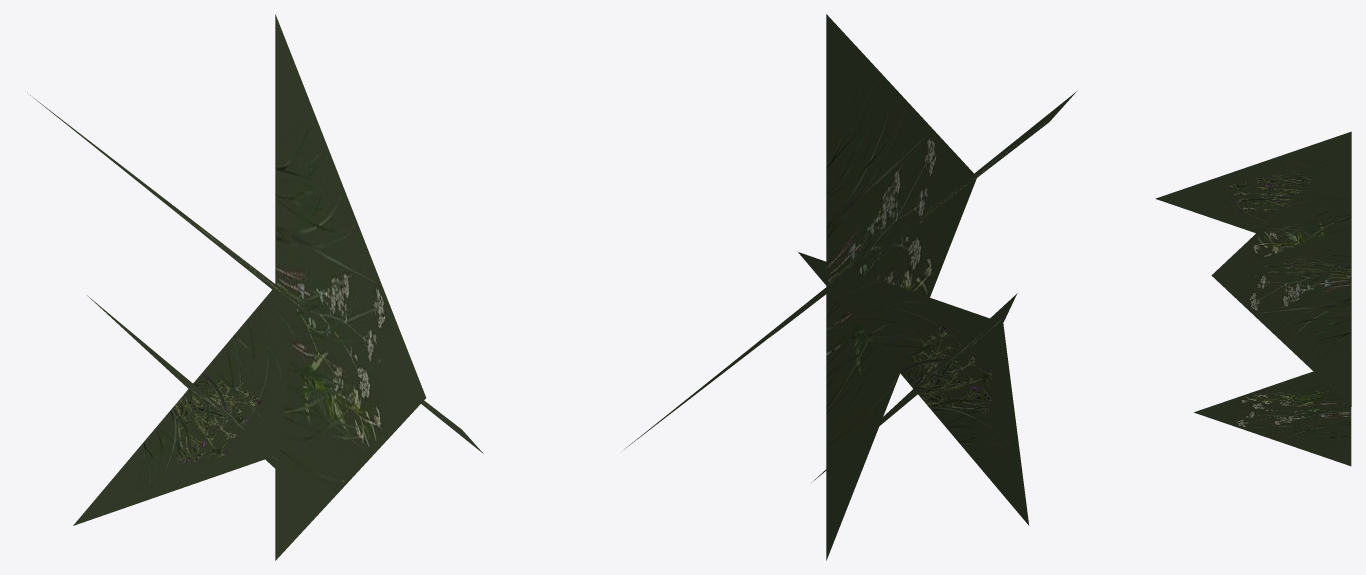
The model's file is brush_grassflowerplants_squareclump.glb.
3 renders of one model, left to right at view 1: azimuth 30°, elevation 25°; view 2: azimuth 150°, elevation 25°; view 3: azimuth 270°, elevation 25°, orthographic. The views are drawn at different scales.
Bounding box in the file's own units: 83.88 × 83.88 × 41.94.
Materials: 1 (1 with a texture image).
